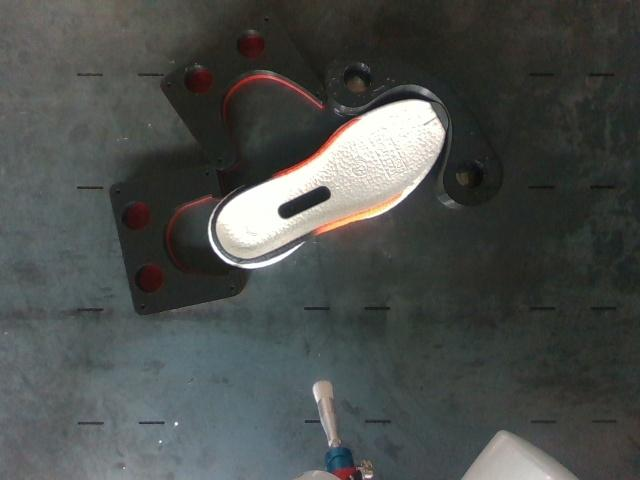shoes: (216, 100, 447, 259)
